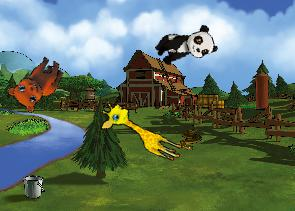bear: (3, 47, 68, 117)
giraffe: (95, 98, 189, 164)
panda: (152, 22, 218, 70)
